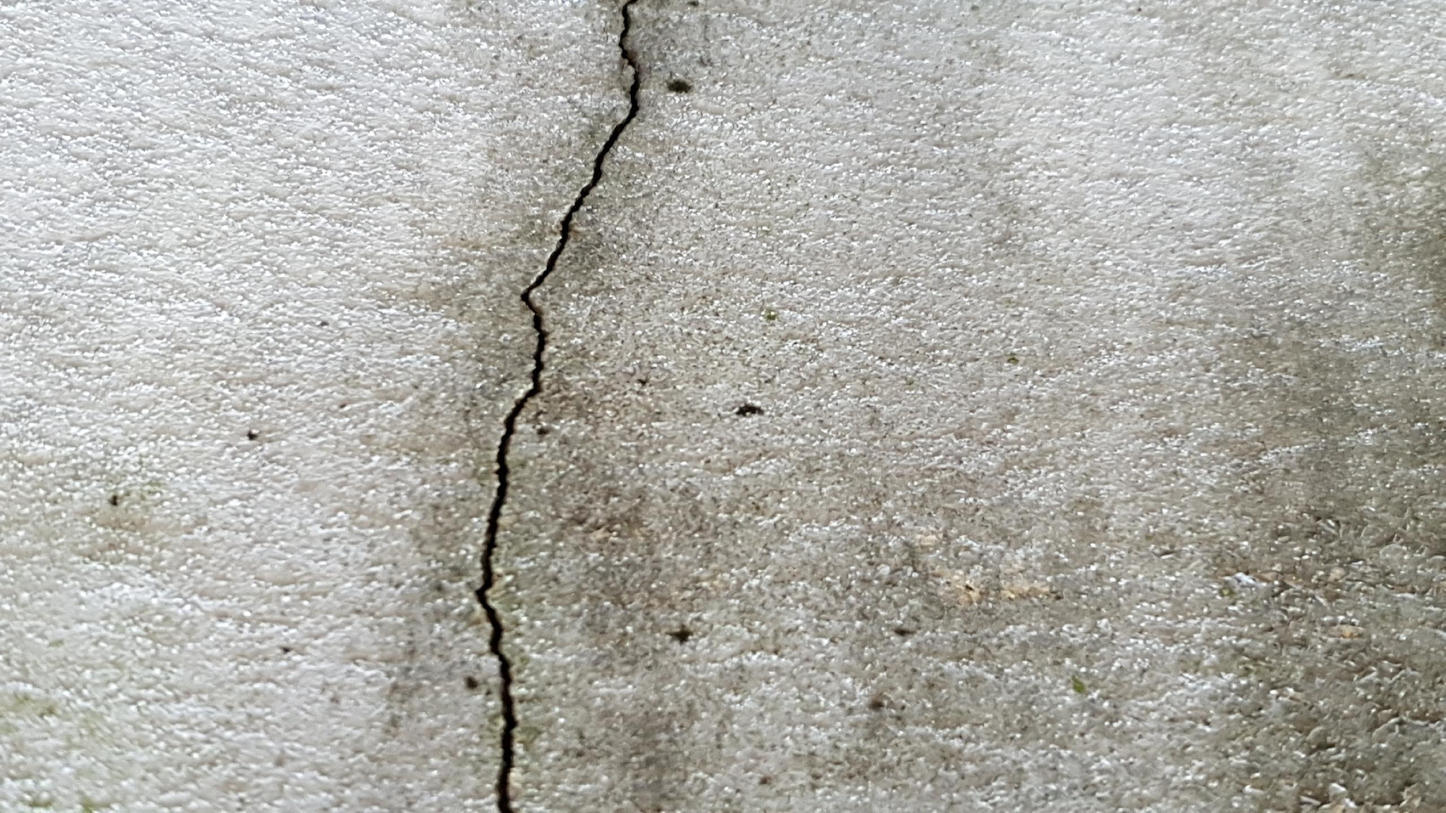crack: (473, 1, 644, 812)
